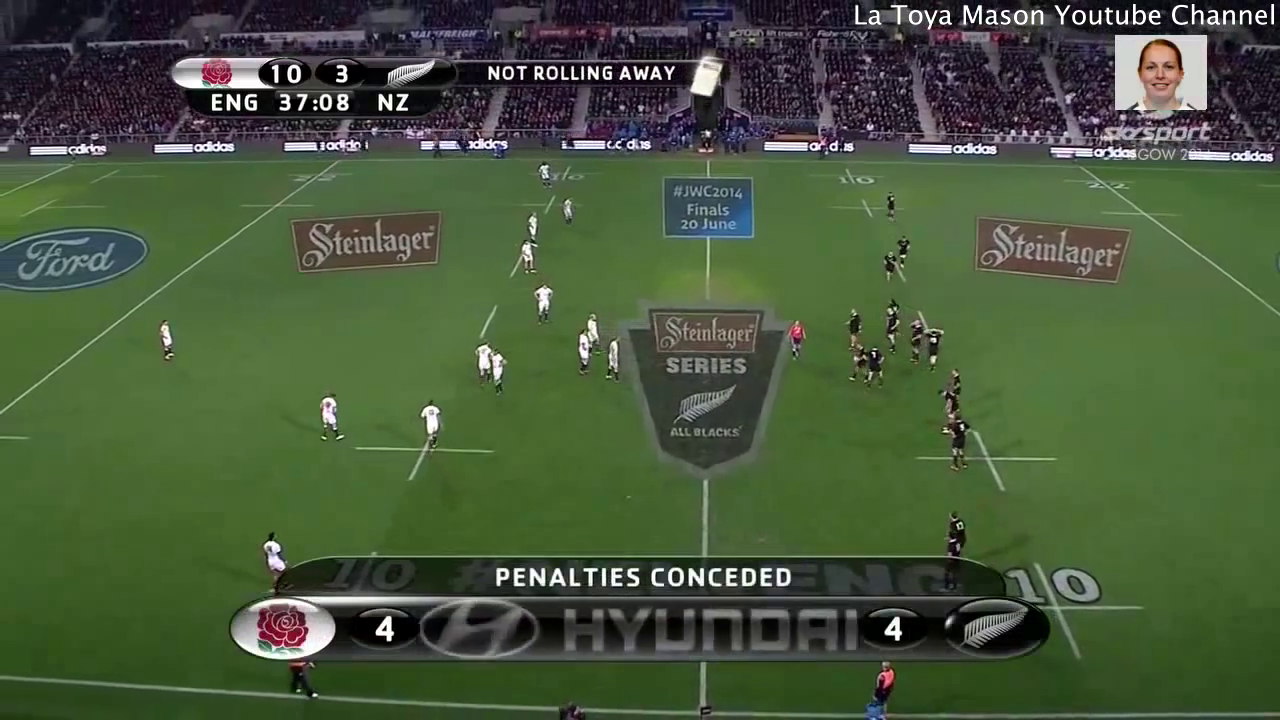10_metre: (972, 556, 1150, 662), (913, 427, 1069, 495), (347, 416, 497, 480), (525, 160, 600, 190), (515, 192, 585, 224), (825, 195, 909, 220), (812, 166, 888, 190)
player: (315, 384, 350, 448), (256, 531, 294, 583), (940, 505, 969, 558), (420, 396, 447, 452), (945, 416, 970, 472), (486, 343, 511, 395), (905, 319, 929, 368), (530, 280, 554, 324), (470, 337, 492, 384), (157, 316, 178, 364), (922, 325, 944, 370), (784, 319, 808, 360), (883, 305, 902, 353), (583, 309, 602, 356), (878, 248, 901, 286), (602, 332, 620, 380), (932, 387, 961, 416), (847, 340, 867, 380), (893, 236, 915, 272), (841, 307, 860, 348), (866, 344, 882, 388), (575, 334, 593, 372), (519, 240, 538, 275), (945, 363, 965, 392), (525, 212, 542, 246), (883, 190, 901, 222), (559, 195, 575, 228), (536, 159, 552, 188), (886, 295, 903, 320)
